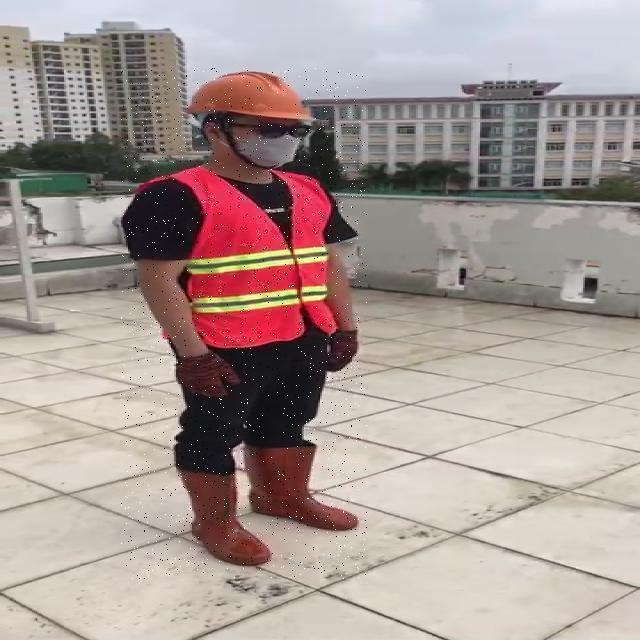gloves: (174, 349, 239, 399), (323, 329, 358, 374)
goggles: (222, 121, 315, 141)
helmet: (186, 69, 322, 123)
safety_vest: (163, 169, 337, 349)
